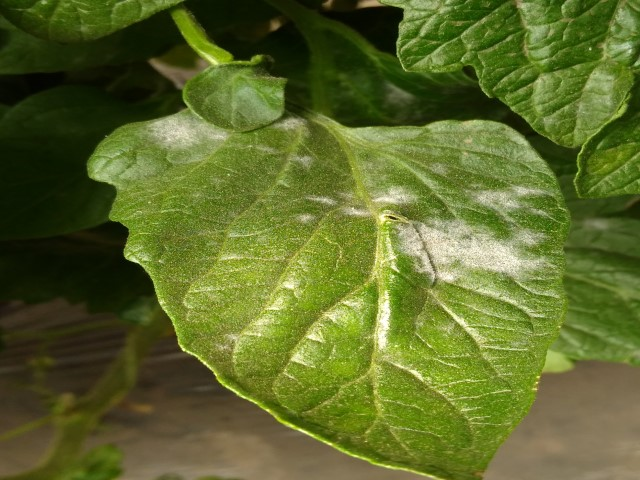oidio: (397, 217, 537, 283), (152, 114, 231, 152), (469, 183, 540, 214), (301, 187, 356, 210), (380, 180, 413, 208), (276, 117, 306, 137), (288, 150, 315, 169), (296, 209, 318, 224)
